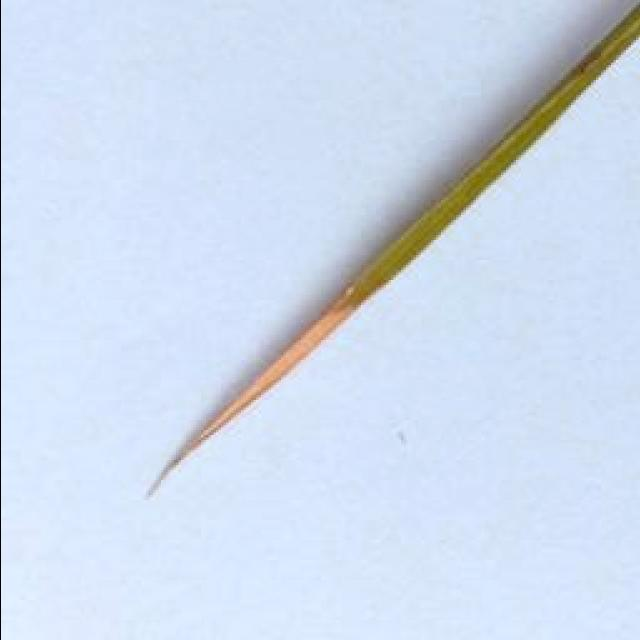Unhealthy: (151, 309, 355, 495)
